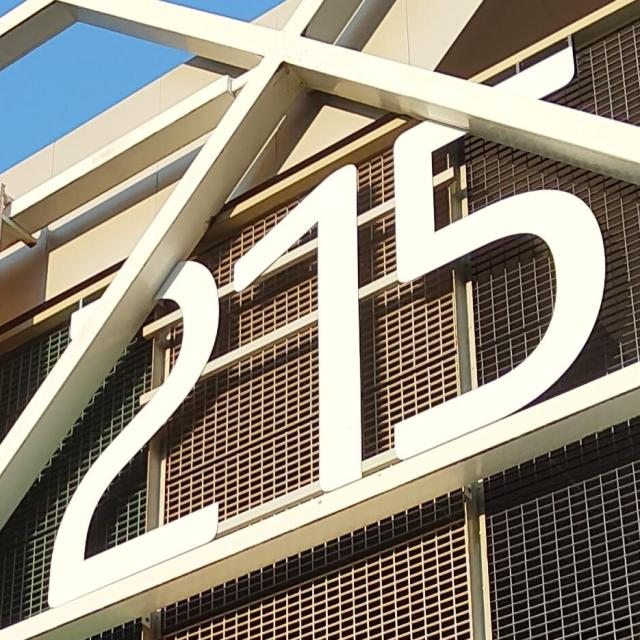character: (388, 41, 612, 463), (37, 252, 228, 615), (230, 157, 368, 495)
